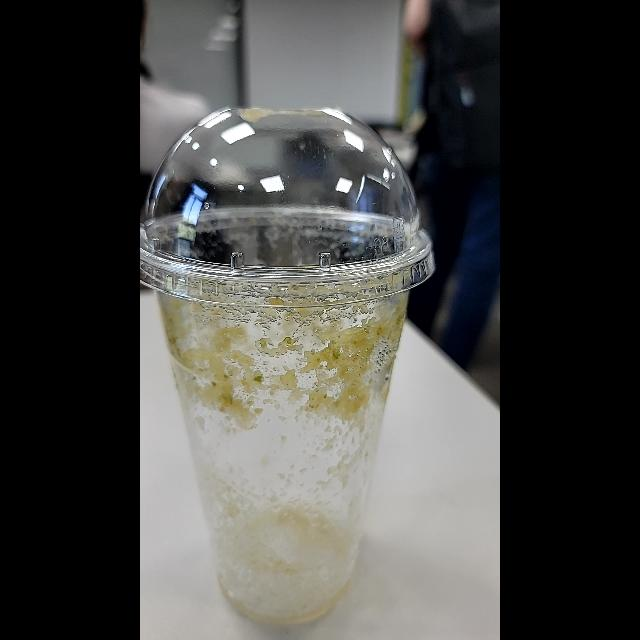plastic_cup: (140, 106, 436, 628)
plastic_cup_lid: (140, 106, 438, 310)
